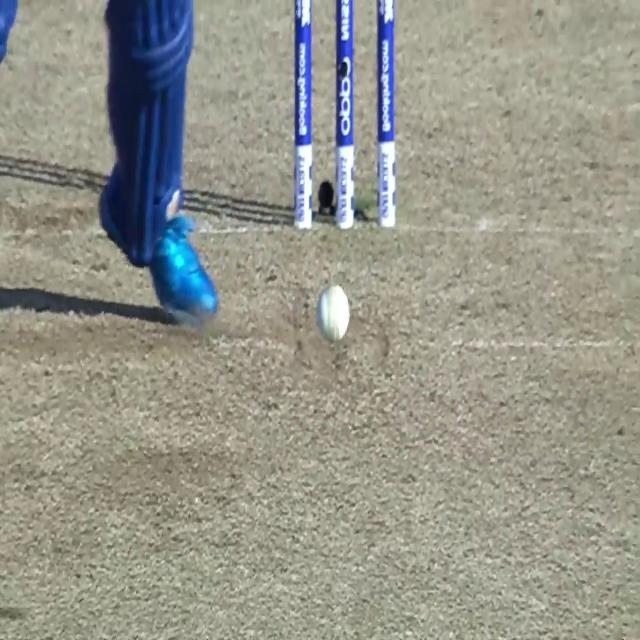ball: (316, 288, 348, 340)
